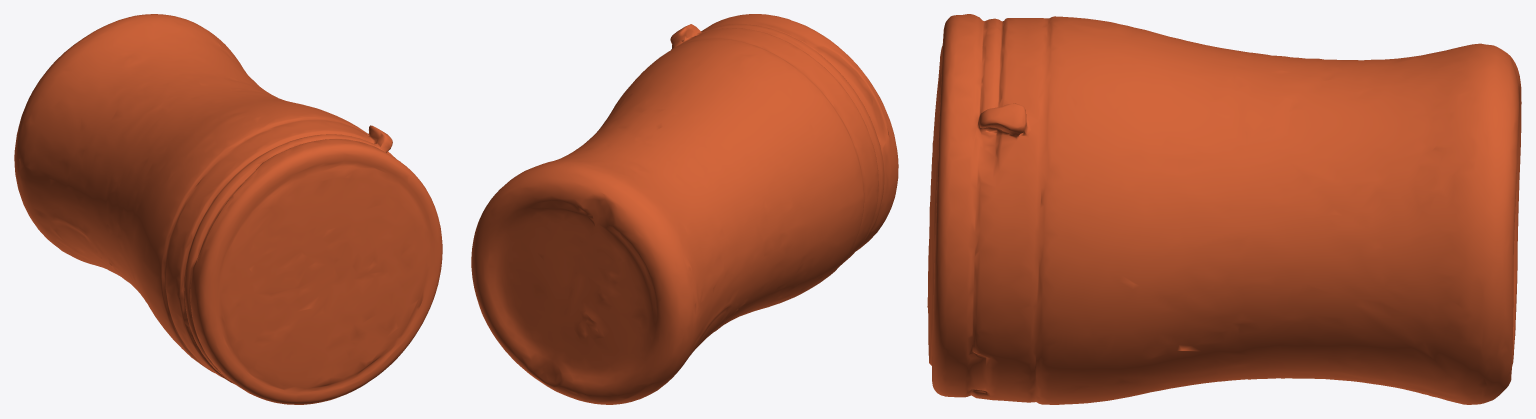
3 views of the same model, side by side, from view 1: azimuth 30°, elevation 25°; view 2: azimuth 150°, elevation 25°; view 3: azimuth 270°, elevation 25° (orthographic). The views are drawn at different scales.
Bounding box in the file's own units: 0.0559 × 0.0557 × 0.085.
